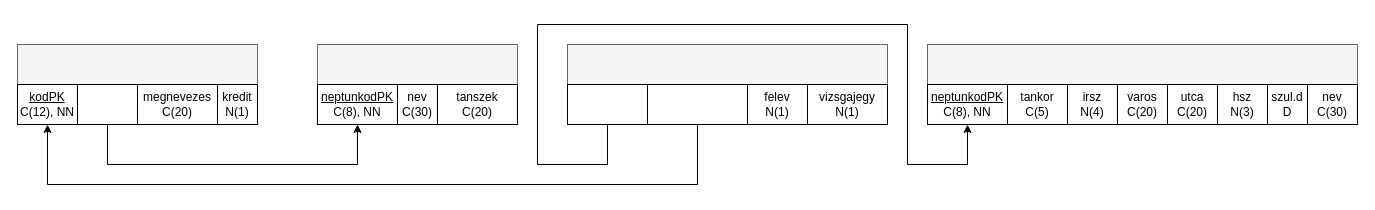
Some shapes in this 1375 by 210 pixel diagram are drawn without their labels. The centre of each missing label's shape, as x and y in pixels:
Hallgat: the point at 727,64
Hallgato: the point at 1142,64
hallgatoFK C(8), NN: the point at 607,104
Oktato: the point at 417,64
oktatoFK C(12), NN: the point at 107,104
Targy: the point at 137,64
targyFK C(12), NN: the point at 697,104
